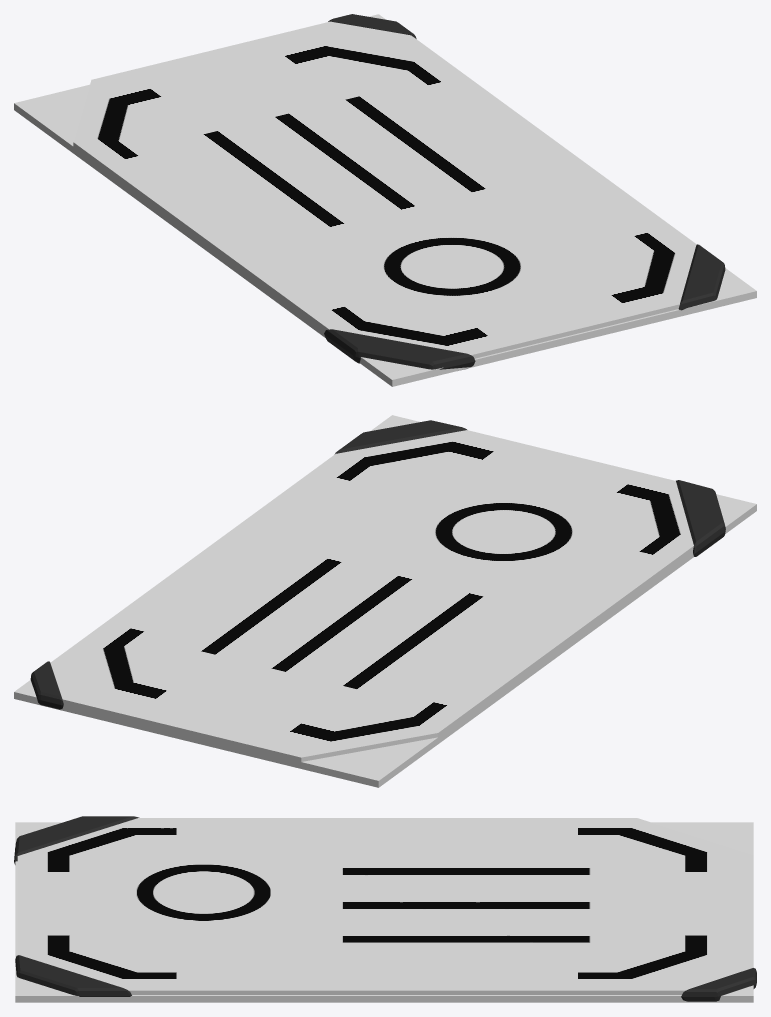
The model's file is password_card1.fbx.
The picture shows the model from 3 angles, top to bottom: view 1: azimuth 30°, elevation 25°; view 2: azimuth 150°, elevation 25°; view 3: azimuth 270°, elevation 25°; orthographic projection. The views are drawn at different scales.
Visible parts, largest first — view 1: Plane.002, Cube.086; view 2: Plane.002, Cube.086; view 3: Plane.002, Cube.086.
Part boxes in pixels (bbox=[...]): Plane.002: bbox=[73, 14, 725, 369]; Cube.086: bbox=[14, 14, 756, 386]; Plane.002: bbox=[30, 420, 725, 768]; Cube.086: bbox=[14, 415, 756, 787]; Plane.002: bbox=[14, 816, 756, 1001]; Cube.086: bbox=[15, 822, 753, 1002].
Size of the model in its own units: 1.02 by 0.0403 by 1.82.
